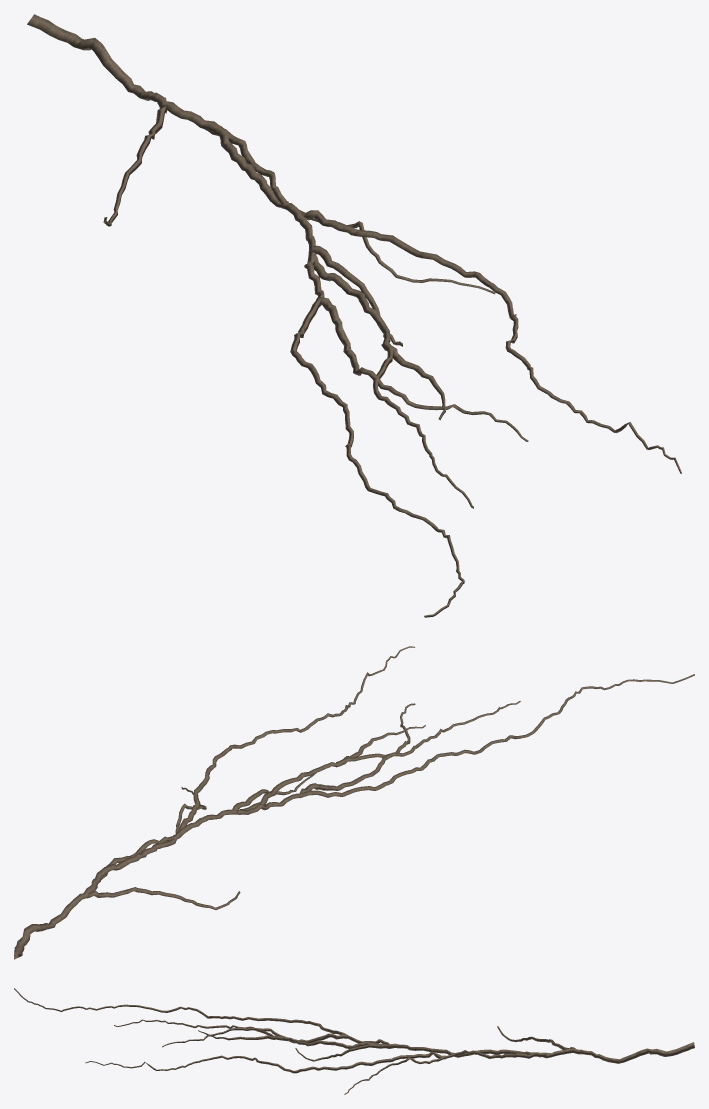
The model's file is SM_roots_5.fbx.
The picture shows the model from 3 angles, top to bottom: view 1: azimuth 30°, elevation 25°; view 2: azimuth 150°, elevation 25°; view 3: azimuth 270°, elevation 25°; orthographic projection. The views are drawn at different scales.
Parts seen in each view (by area): view 1: SM_roots_5_LOD0; view 2: SM_roots_5_LOD0; view 3: SM_roots_5_LOD0.
Boxes of the visible parts, x1,y1,x2,y2 form: SM_roots_5_LOD0: (27,14,681,617); SM_roots_5_LOD0: (14,646,694,959); SM_roots_5_LOD0: (14,988,694,1094).
Bounding box in the file's own units: 239 × 704 × 29.37.
